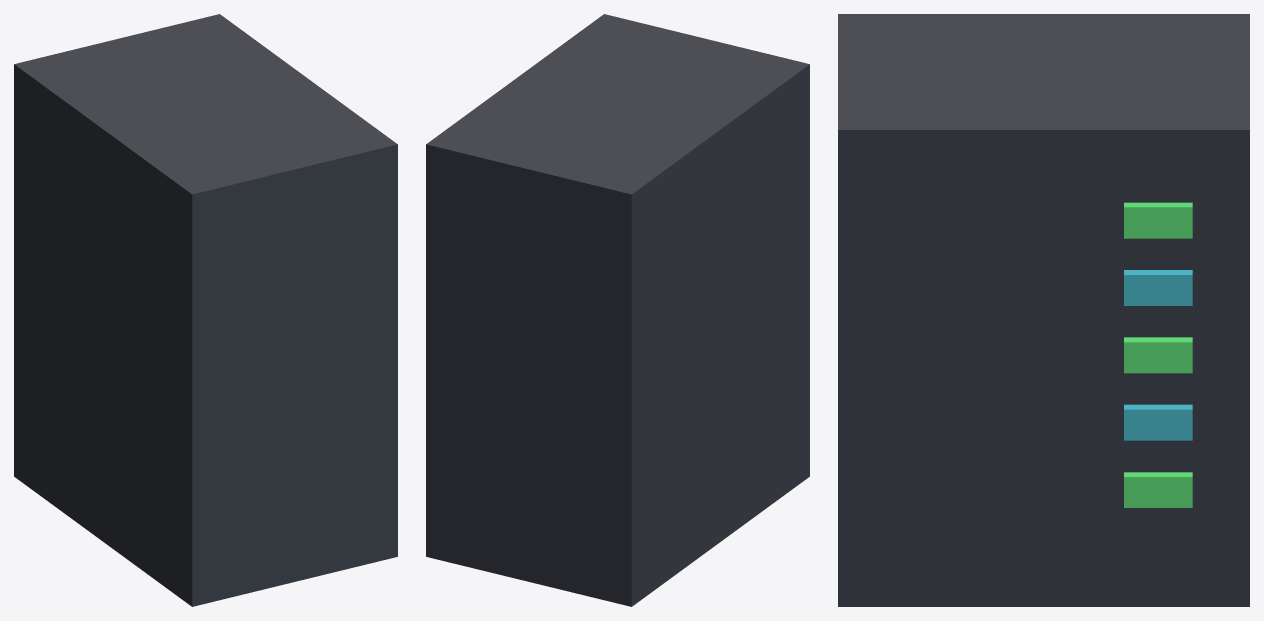
File: computer.obj
3 views of the same model, side by side, from view 1: azimuth 30°, elevation 25°; view 2: azimuth 150°, elevation 25°; view 3: azimuth 270°, elevation 25° (orthographic). The views are drawn at different scales.
Bounding box in the file's own units: 0.5 × 0.92 × 0.72.
